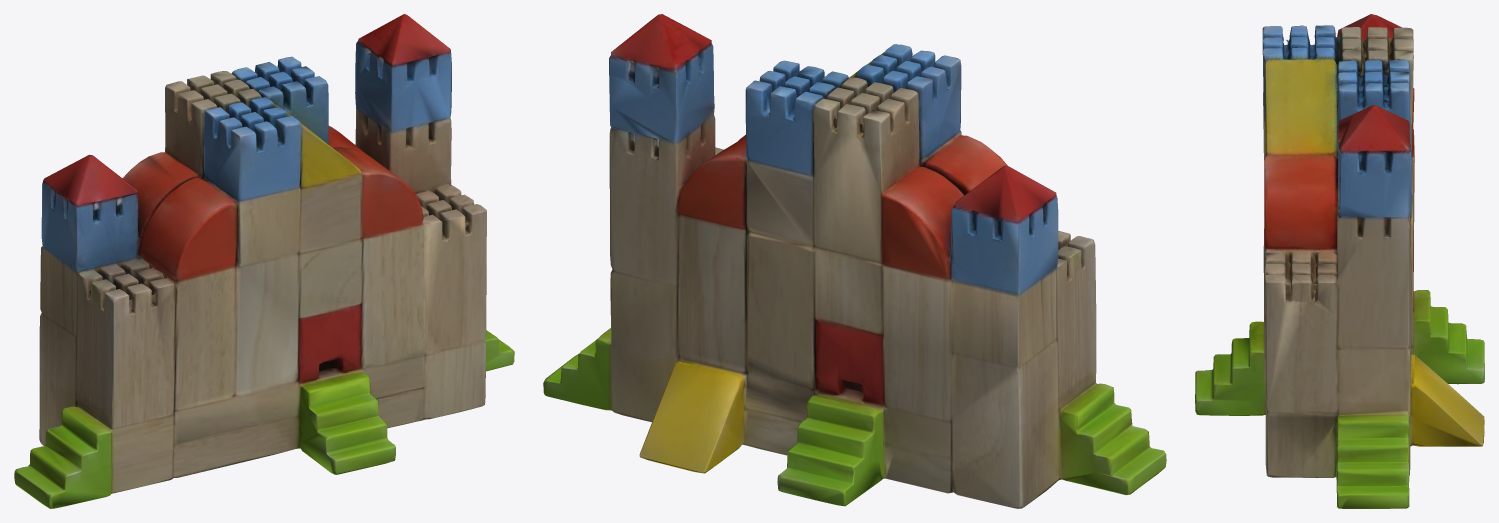
File: blocks.glb
3 views of the same model, side by side, from view 1: azimuth 30°, elevation 25°; view 2: azimuth 150°, elevation 25°; view 3: azimuth 270°, elevation 25° (orthographic). The views are drawn at different scales.
Visible parts, largest first — view 1: CREATIVE_BLOCKS_35_MM; view 2: CREATIVE_BLOCKS_35_MM; view 3: CREATIVE_BLOCKS_35_MM.
Boxes of the visible parts, <box> form: CREATIVE_BLOCKS_35_MM: <box>14,14,514,508</box>; CREATIVE_BLOCKS_35_MM: <box>543,14,1166,508</box>; CREATIVE_BLOCKS_35_MM: <box>1195,14,1484,508</box>.
Size of the model in its own units: 0.2818 by 0.1925 by 0.1408.
1 material, 1 textured.
